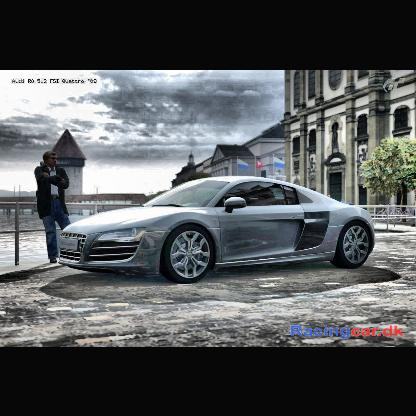Audi R8 Coupe 2012: (61, 177, 376, 284)
